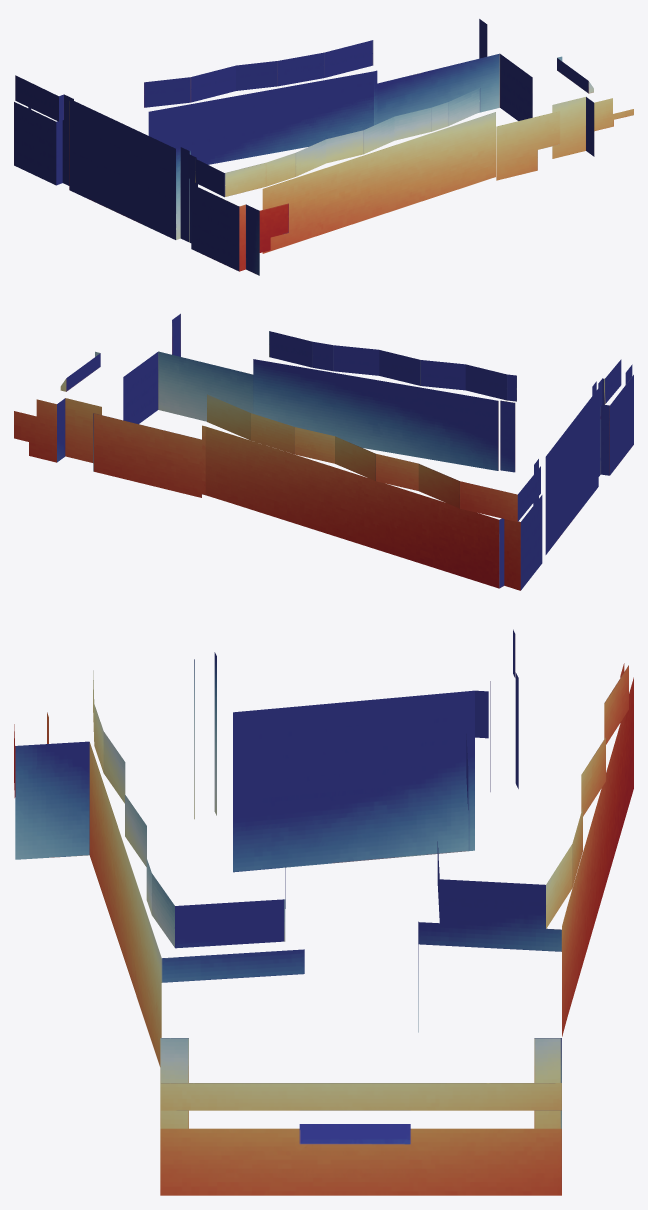
Rendered from target_mesh_option_2.glb.
The picture shows the model from 3 angles, top to bottom: view 1: azimuth 30°, elevation 25°; view 2: azimuth 150°, elevation 25°; view 3: azimuth 270°, elevation 25°; orthographic projection. The views are drawn at different scales.
Visible parts, largest first — view 1: target_mesh_Option_2; view 2: target_mesh_Option_2; view 3: target_mesh_Option_2.
Boxes of the visible parts, <box> form: target_mesh_Option_2: <box>14,19,633,275</box>; target_mesh_Option_2: <box>14,313,633,590</box>; target_mesh_Option_2: <box>14,629,633,1195</box>.
Size of the model in its own units: 114 by 21.22 by 71.8.
1 material, 1 textured.
